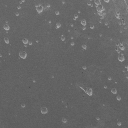corrosion: (18, 49, 29, 60), (96, 6, 106, 17), (84, 86, 93, 97), (35, 5, 44, 14), (40, 106, 48, 114), (60, 116, 68, 124), (118, 54, 126, 61), (3, 24, 10, 31), (22, 38, 29, 45), (55, 23, 62, 30), (110, 88, 117, 95), (59, 34, 66, 41), (81, 43, 87, 51), (3, 38, 10, 44), (80, 20, 87, 26), (90, 24, 95, 31), (54, 10, 60, 15), (20, 103, 26, 108), (82, 65, 87, 71), (106, 76, 112, 81), (119, 46, 125, 51), (73, 14, 78, 19), (15, 12, 19, 17), (17, 6, 22, 10), (8, 52, 10, 56)
